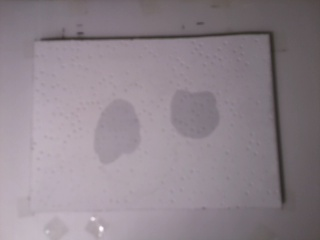Water_detected: (99, 106, 136, 163), (180, 95, 220, 140)
